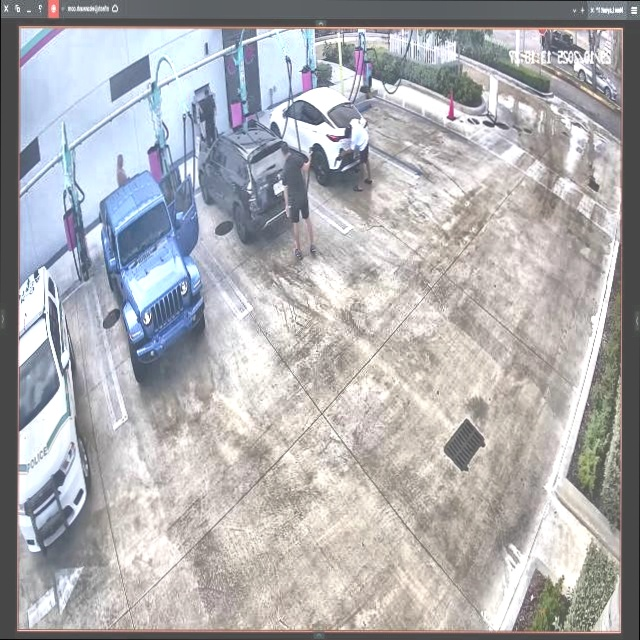Car: (99, 163, 206, 384), (198, 122, 296, 236), (270, 88, 364, 190)
